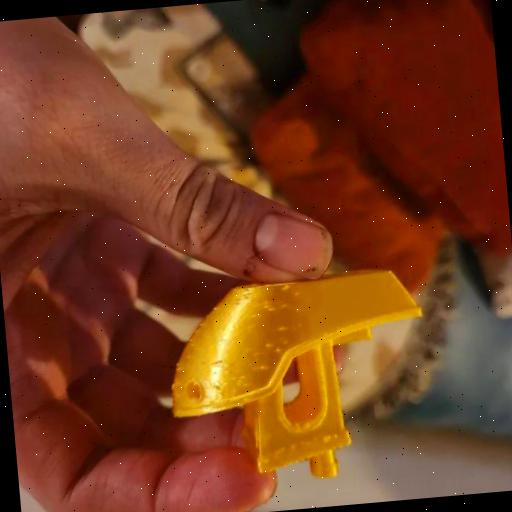blobs: (294, 304, 306, 316), (278, 324, 292, 333), (280, 338, 292, 348), (242, 380, 252, 392), (174, 360, 184, 372), (264, 340, 274, 350), (267, 305, 277, 315), (274, 346, 283, 355), (256, 364, 266, 372), (280, 302, 290, 310), (282, 284, 292, 292), (294, 290, 302, 300)
